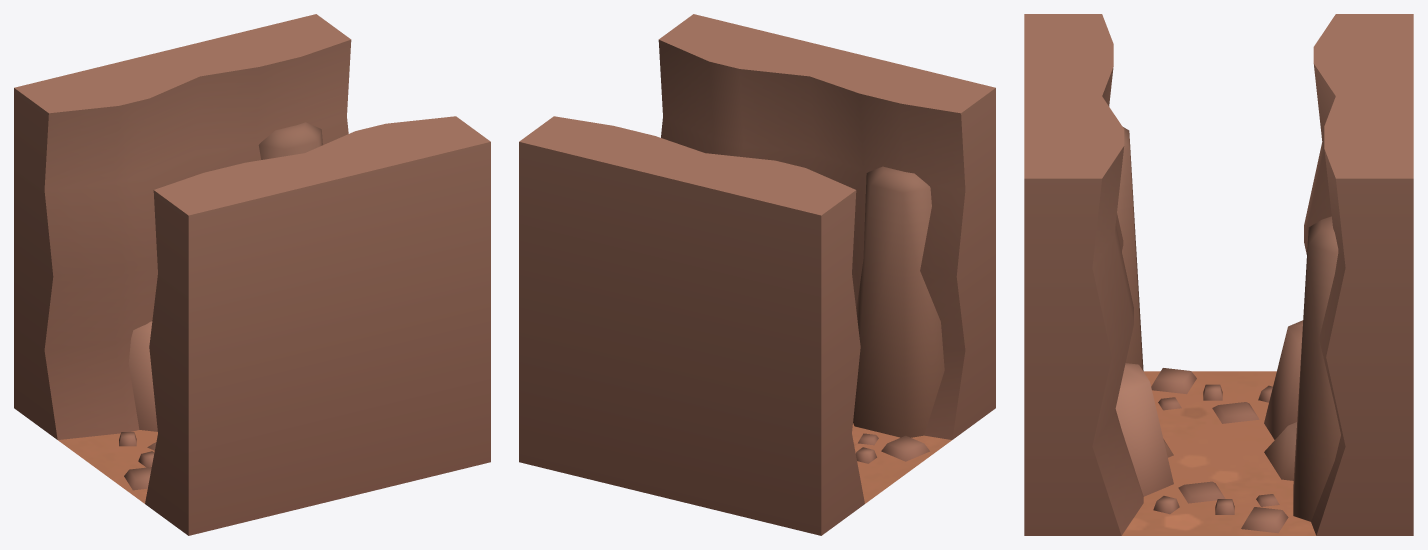
File: corridor.obj
3 renders of one model, left to right at view 1: azimuth 30°, elevation 25°; view 2: azimuth 150°, elevation 25°; view 3: azimuth 270°, elevation 25°, orthographic. The views are drawn at different scales.
Visible parts, largest first — view 1: corridor; view 2: corridor; view 3: corridor.
Boxes of the visible parts, left/top/right/bottom form: corridor: left=14, top=14, right=490, bottom=535; corridor: left=519, top=14, right=995, bottom=535; corridor: left=1024, top=14, right=1413, bottom=535.
Bounding box in the file's own units: 4 × 4.05 × 4.
1 material, 1 textured.
